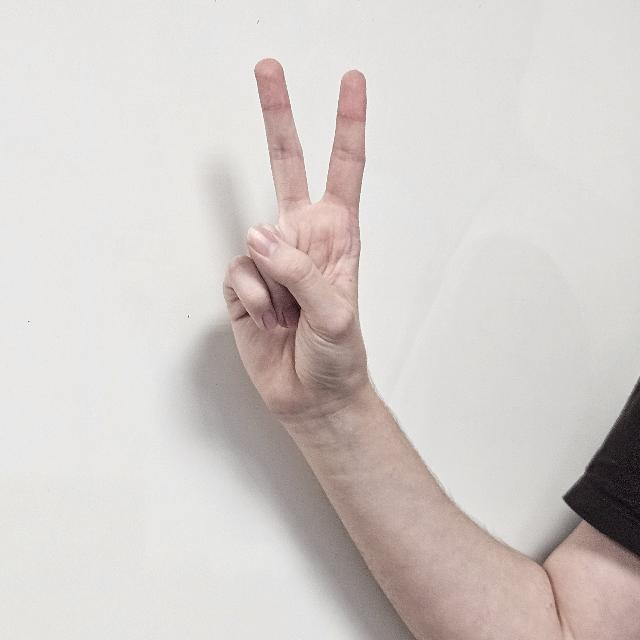Triangulo: (222, 56, 414, 476)
